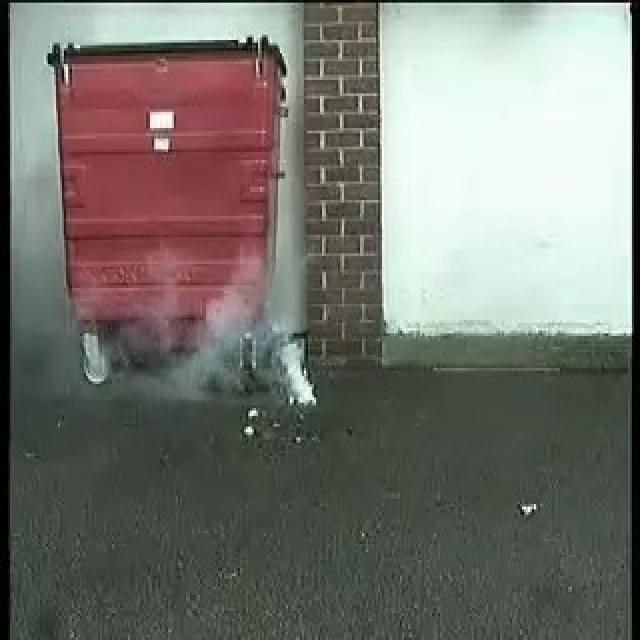smoke: (150, 270, 318, 414)
